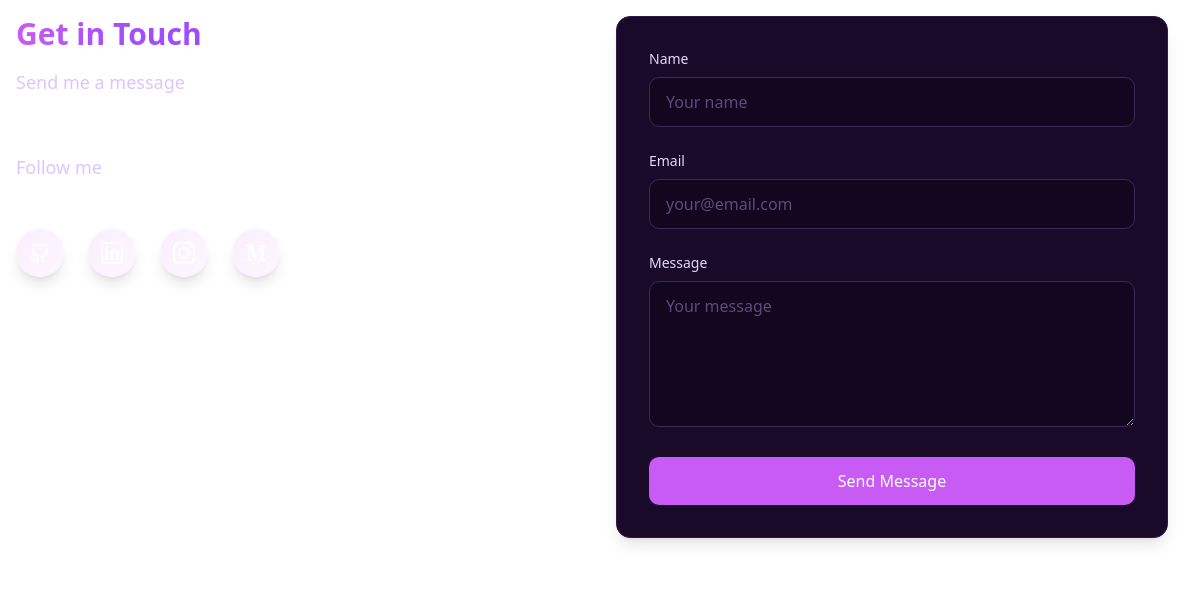
Test: ContactForm › form validation › shows error when message is empty
This screenshot has width=1185, height=592.
Type "John Doe" into the field labelled "Name" at (892, 102), box x1=649 y1=77 x2=1135 y2=127
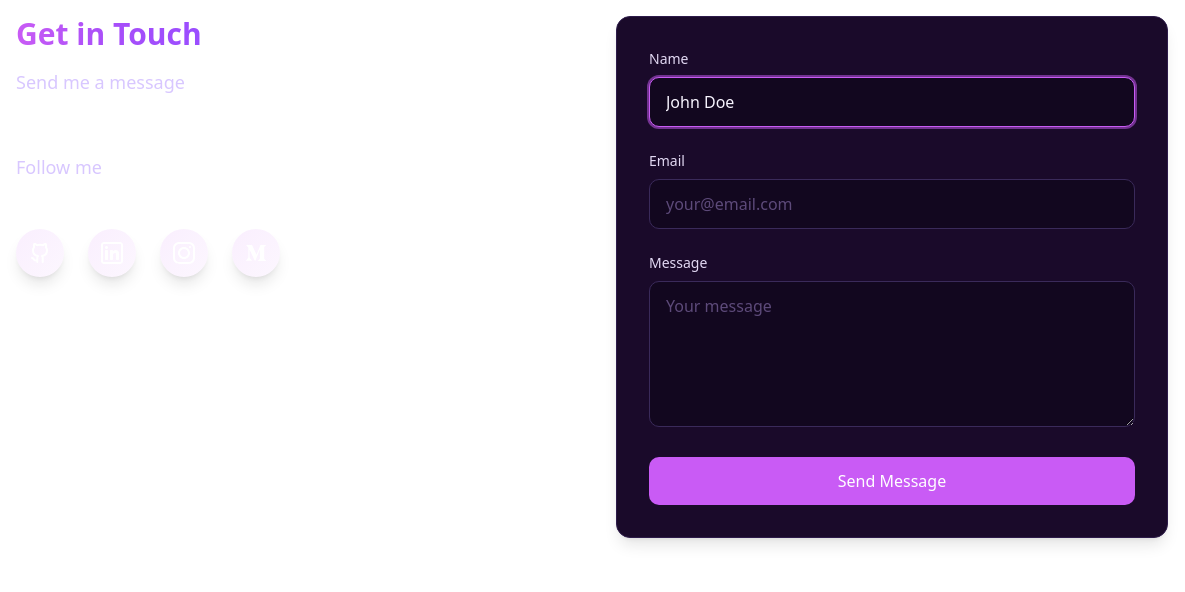
Type "john@example.com" into the field labelled "Email" at (892, 204), box x1=649 y1=179 x2=1135 y2=229
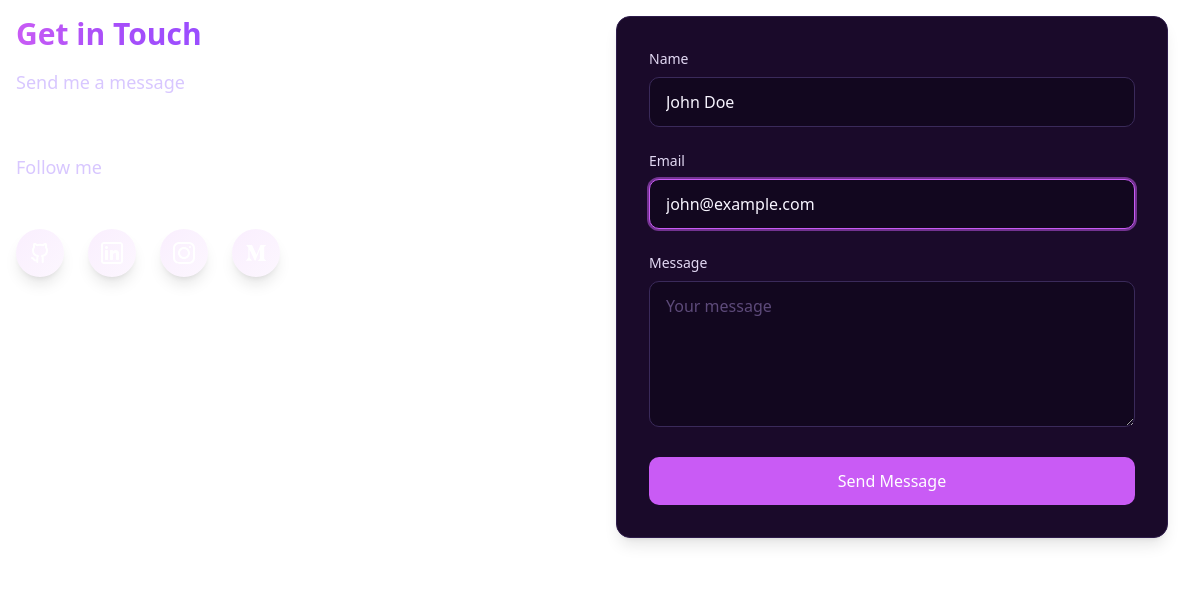
Click the button "Send Message" at (892, 481), box x1=649 y1=457 x2=1135 y2=505
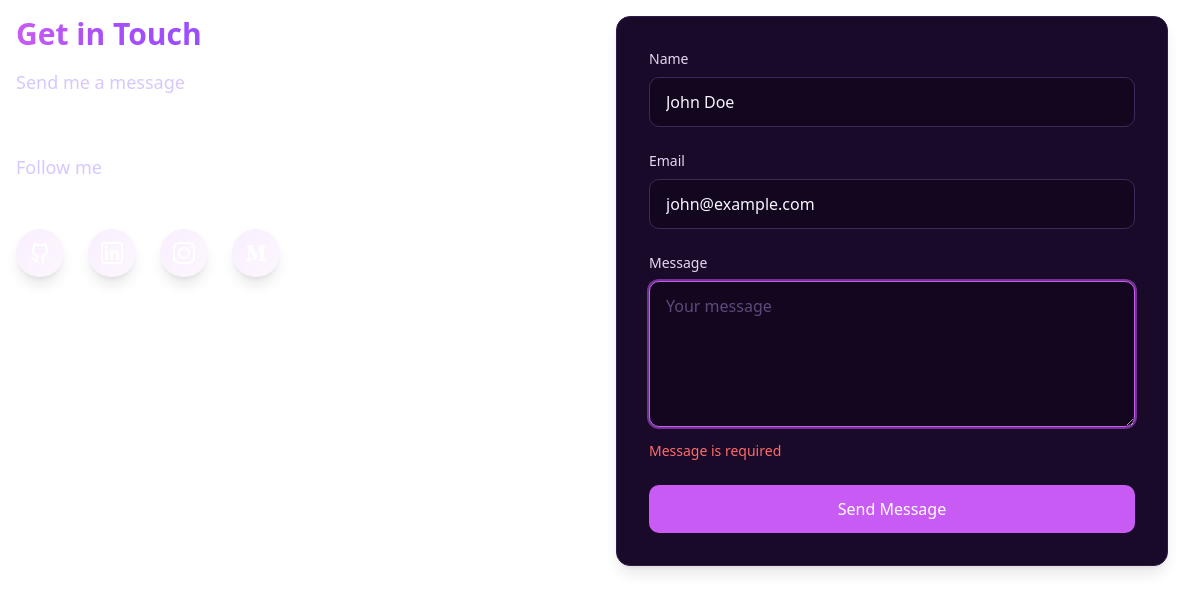
Result: the text "Message is required" is shown at x1=649 y1=441 x2=781 y2=460
